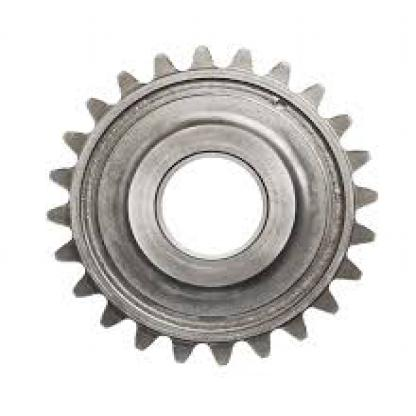FOD: (29, 28, 398, 375)
